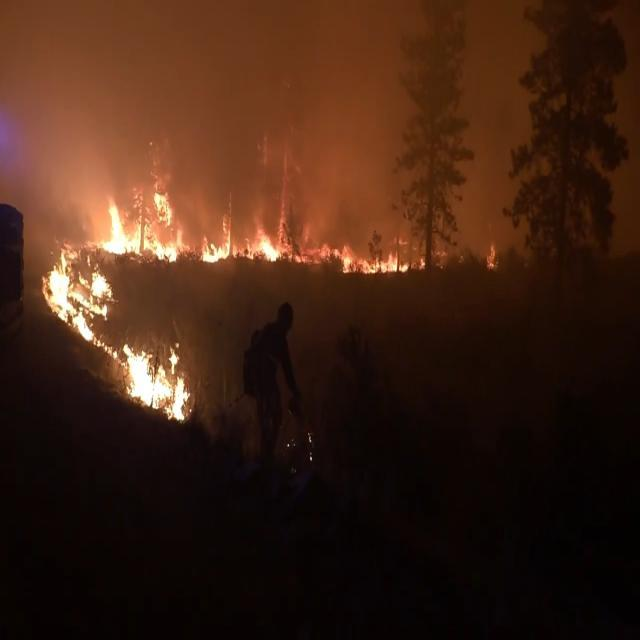Fire: (42, 139, 502, 432)
